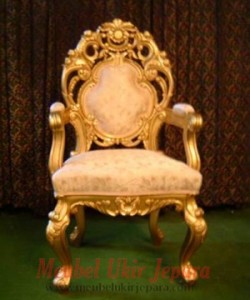Carving Chair: (53, 29, 207, 277)
